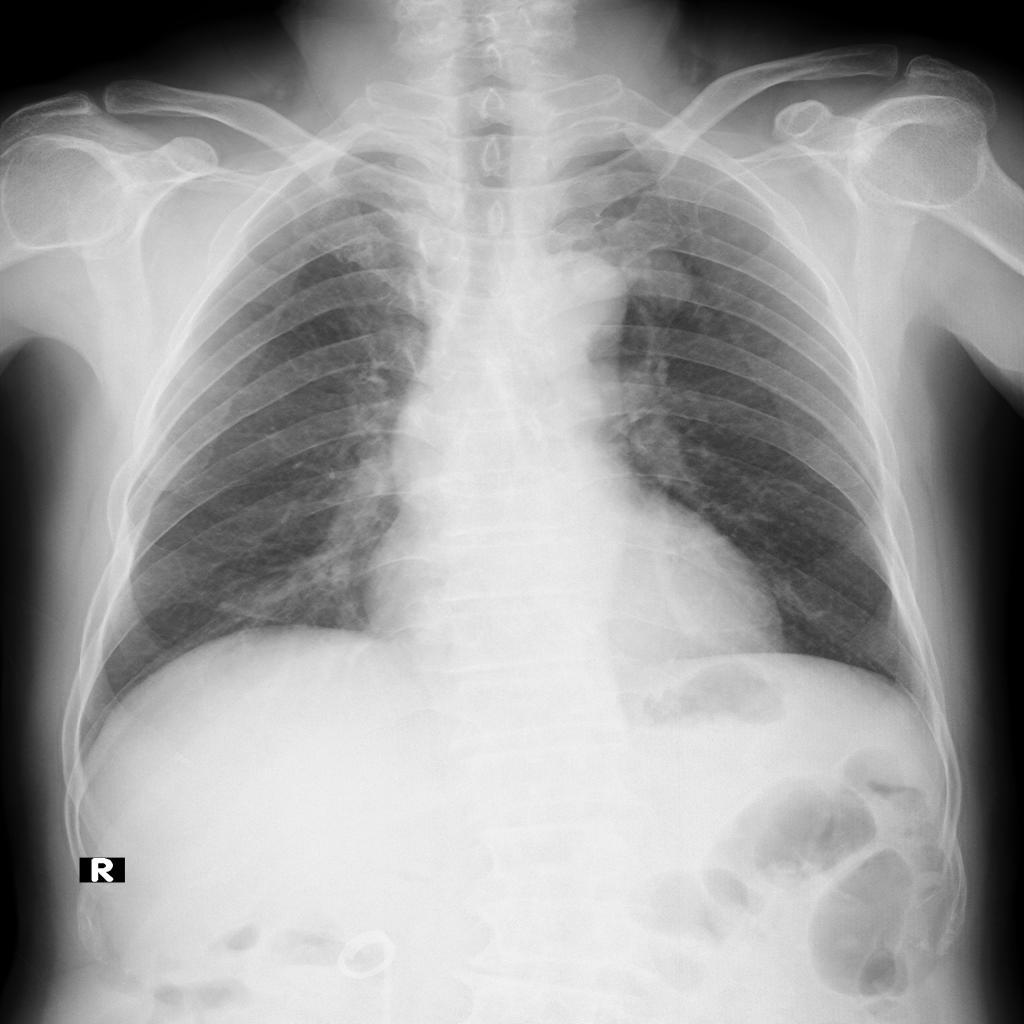Nodule: (572, 246, 642, 303)
